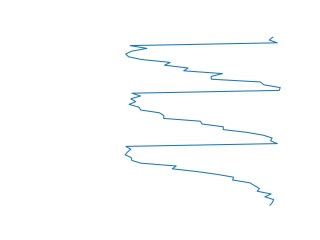distributaryMouthBar: (123, 36, 284, 206)
